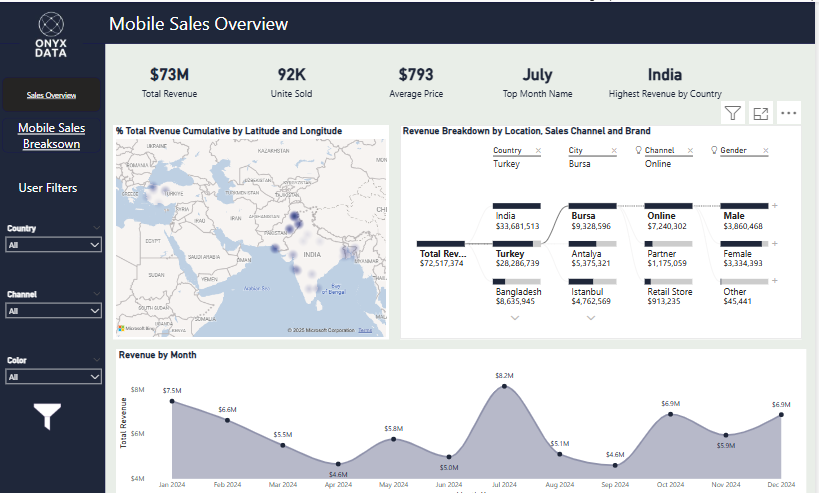

The page's visual inventory and layout, read from the dashboard file:
{"tool":"powerbi","page":{"name":"Sales Overview","canvas":[1450,900],"ordinal":0},"visuals":[{"type":"shape","box":[0,0,191.7,900.2],"z":0},{"type":"slicer","title":"Slicer Channel","fields":{"Values":["Fact_Sales.Sales_Channel"]},"box":[6.1,504.6,190.4,84.8],"z":0,"group":"g1"},{"type":"shape","box":[0,0,1450,74.4],"z":1000},{"type":"slicer","title":"Slicer Country","fields":{"Values":["Dim_Locations.Country"]},"box":[6.1,387.9,190.2,83.3],"z":1000,"group":"g1"},{"type":"slicer","title":"Slicer Color","fields":{"Values":["Dim_Products.Color"]},"box":[6.1,621.6,190.4,84.8],"z":2000,"group":"g1"},{"type":"textbox","box":[193.4,9.6,743.7,53.7],"z":3000},{"type":"image","box":[104.1,409.6,296.6,12.8],"z":3000,"group":"g1"},{"type":"image","box":[0,0,191,114.6],"z":4000},{"type":"pageNavigator","box":[8.4,133.7,175.5,134.9],"z":5000},{"type":"textbox","box":[7.2,308,165.9,50.1],"z":6000},{"type":"decompositionTreeVisual","title":"Revenue Breakdown by Location, Sales Channel and Brand","fields":{"Analyze":["Fact_Sales.Total Revenue"],"ExplainBy":["Dim_Locations.Country","Dim_Locations.City","Fact_Sales.Sales_Channel","Dim_Customer.Customer_Gender","Dim_Products.Brand"]},"box":[714.8,217.3,710.8,379.8],"z":7000},{"type":"areaChart","title":"Revenue by Month ","fields":{"Y":["Fact_Sales.Total Revenue"],"Category":["Dim_DateTable.Month Year"]},"box":[211.2,615.3,1222.5,272.1],"z":8000},{"type":"map","fields":{"Y":["Dim_Locations.Latitude"],"X":["Dim_Locations.Longitude"],"Size":["Dim_Customer.% Total Rvenue Cumulative"]},"box":[205.1,217.3,489.4,379.8],"z":9000},{"type":"card","title":"Card1","fields":{"Values":["Fact_Sales.Total Revenue"]},"box":[210.8,92.1,189.6,90.4],"z":10000},{"type":"card","title":"Card2","fields":{"Values":["Fact_Sales.Unite Sold"]},"box":[415.9,92.1,210.8,90.4],"z":11000},{"type":"card","title":"Card3","fields":{"Values":["Fact_Sales.Average Price"]},"box":[642.2,92.1,200.2,90.4],"z":12000},{"type":"card","title":"Card4","fields":{"Values":["Dim_DateTable.Top Month Name"]},"box":[857.9,92.1,202,90.4],"z":13000},{"type":"card","title":"Card5","fields":{"Values":["Dim_Customer.Top Performing Country"]},"box":[1075.4,92.1,217.9,90.4],"z":15000},{"type":"group","id":"g1","title":"All Slicers","box":[6.1,387.9,394,316.8],"z":16000},{"type":"image","title":"Image filter","box":[56.9,704.7,65,60.9],"z":17000}]}

Visuals, with their boxes on the page's 1450x900 design canvas (x1, y1, x2, y2). These are canvas units, not pixel positions in the 819x493 screenshot, which may show the page scaled, cropped or inside an application window:
shape: <region>0, 0, 192, 900</region>
"Slicer Channel" slicer: <region>6, 505, 196, 589</region>
shape: <region>0, 0, 1450, 74</region>
"Slicer Country" slicer: <region>6, 388, 196, 471</region>
"Slicer Color" slicer: <region>6, 622, 196, 706</region>
textbox: <region>193, 10, 937, 63</region>
image: <region>104, 410, 401, 422</region>
image: <region>0, 0, 191, 115</region>
pageNavigator: <region>8, 134, 184, 269</region>
textbox: <region>7, 308, 173, 358</region>
"Revenue Breakdown by Location, Sales Channel and Brand" decompositionTreeVisual: <region>715, 217, 1426, 597</region>
"Revenue by Month " areaChart: <region>211, 615, 1434, 887</region>
map - Dim_Locations.Latitude x Dim_Locations.Longitude: <region>205, 217, 694, 597</region>
"Card1" card: <region>211, 92, 400, 182</region>
"Card2" card: <region>416, 92, 627, 182</region>
"Card3" card: <region>642, 92, 842, 182</region>
"Card4" card: <region>858, 92, 1060, 182</region>
"Card5" card: <region>1075, 92, 1293, 182</region>
"All Slicers" group: <region>6, 388, 400, 705</region>
"Image filter" image: <region>57, 705, 122, 766</region>
